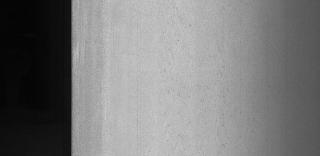silk spot: (159, 4, 211, 119)
